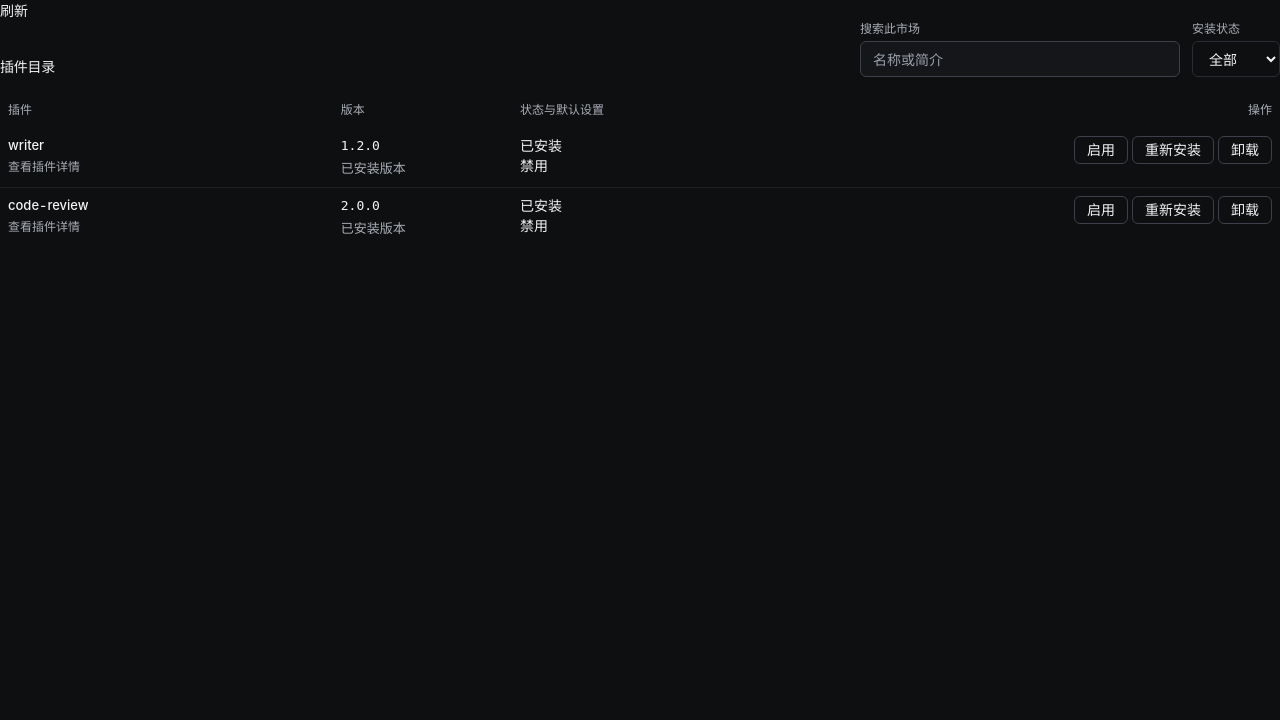
it: Codex plugin management › confirms Reinstall and rereads instead of assuming the new state
Click the button "重新安装" in the row of "1.2.0": coordinates (1173, 150) top-left (1132, 136), bottom-right (1214, 164)
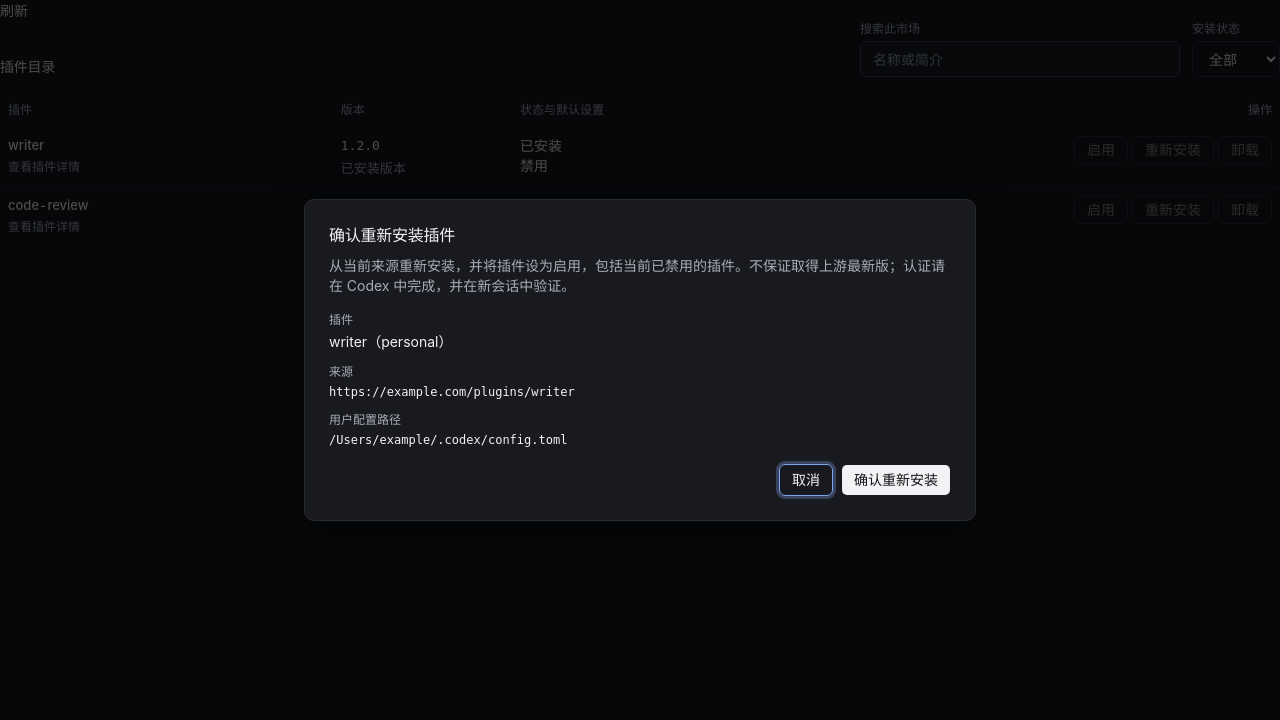
expect the dialog shows "writer（personal）": met, box top-left (329, 333), bottom-right (452, 350)
expect the dialog shows "包括当前已禁用的插件": met, box top-left (329, 257), bottom-right (945, 294)
Click the button "确认重新安装": coordinates (896, 480) top-left (841, 464), bottom-right (951, 496)
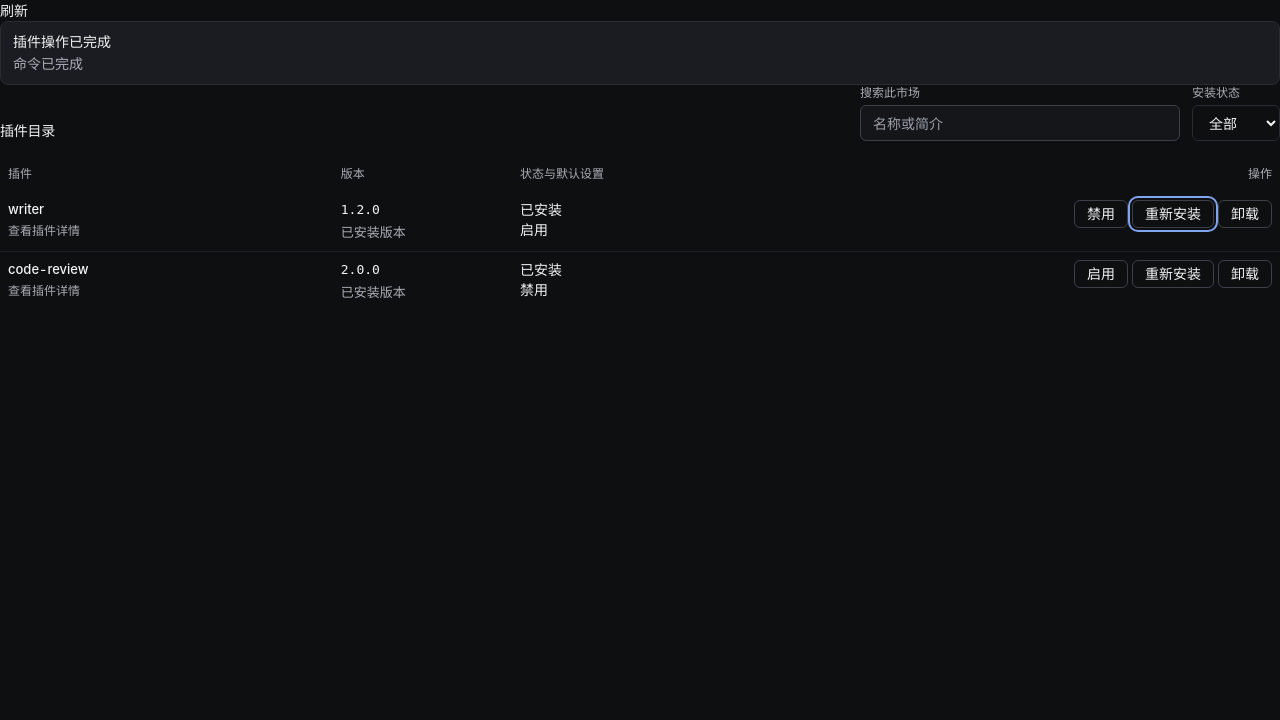
expect the button with aria-label "禁用 writer（personal）" is shown: met, box top-left (1074, 200), bottom-right (1128, 228)
expect the dialog is gone: met
